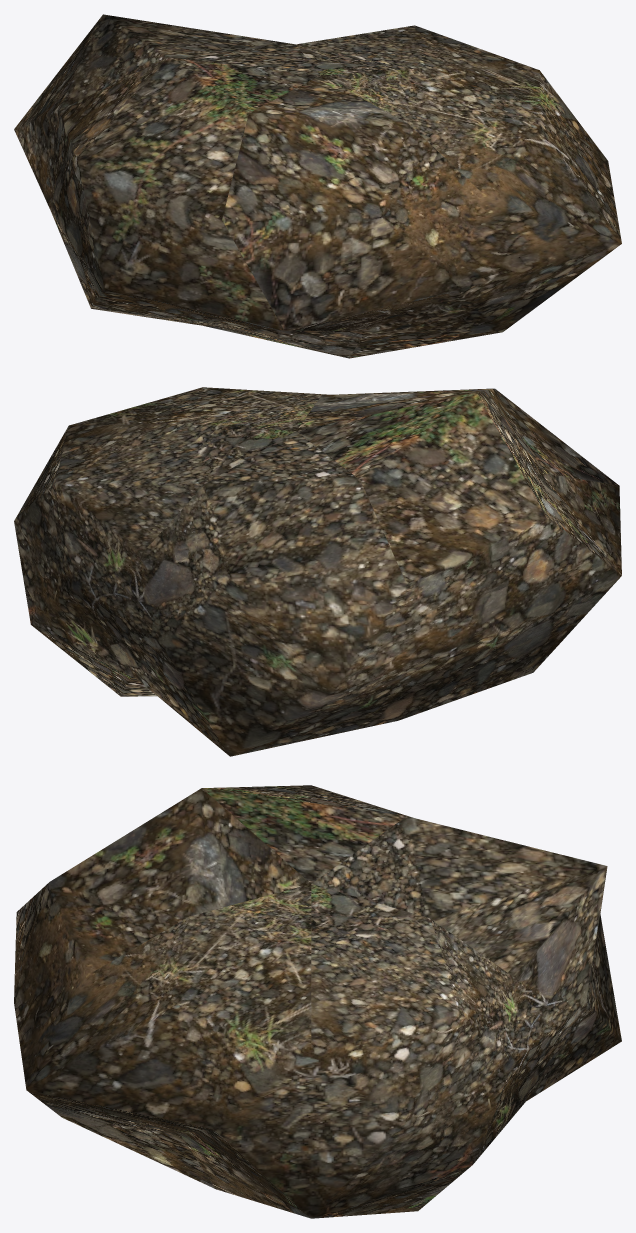
The model's file is rock.glb.
3 renders of one model, top to bottom at view 1: azimuth 30°, elevation 25°; view 2: azimuth 150°, elevation 25°; view 3: azimuth 270°, elevation 25°, orthographic. The views are drawn at different scales.
Parts seen in each view (by area): view 1: V2 / rock source; view 2: V2 / rock source; view 3: V2 / rock source.
Boxes of the visible parts, left/top/right/bottom form: V2 / rock source: left=14, top=14, right=621, bottom=358; V2 / rock source: left=14, top=387, right=621, bottom=756; V2 / rock source: left=14, top=785, right=621, bottom=1218.
Bounding box in the file's own units: 1.95 × 1.02 × 1.89.
Materials: 1 (1 with a texture image).
